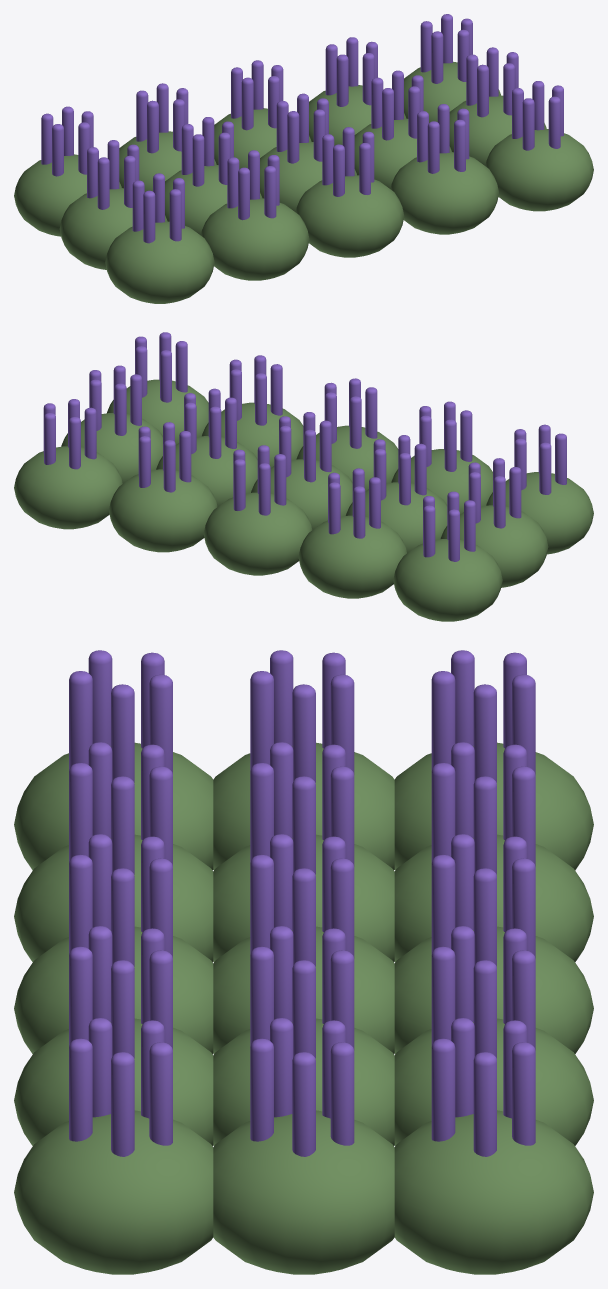
The model's file is veg_lavanda.glb.
3 renders of one model, top to bottom at view 1: azimuth 30°, elevation 25°; view 2: azimuth 150°, elevation 25°; view 3: azimuth 270°, elevation 25°, orthographic. The views are drawn at different scales.
Visible parts, largest first — view 1: veg_lavanda; view 2: veg_lavanda; view 3: veg_lavanda.
Boxes of the visible parts, x1,y1,x2,y2 form: veg_lavanda: (14, 14, 593, 303); veg_lavanda: (14, 332, 593, 621); veg_lavanda: (14, 650, 593, 1274).
Size of the model in its own units: 2.99 by 0.685 by 1.6.
